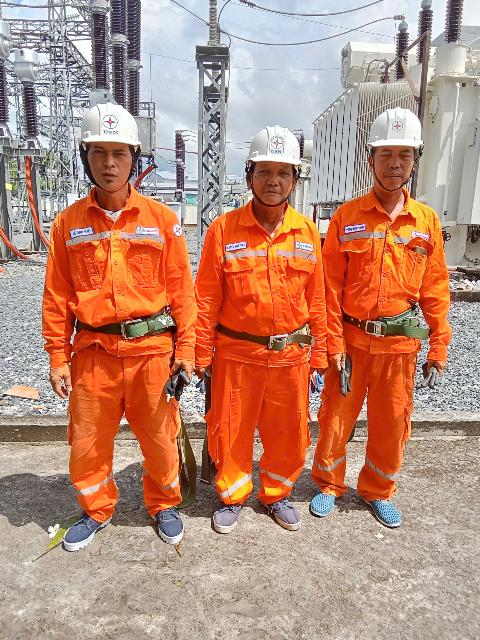gloves: (157, 364, 199, 401), (330, 348, 354, 401), (417, 359, 444, 390), (314, 368, 324, 392)
harness: (331, 292, 430, 350), (61, 302, 187, 345), (218, 312, 310, 363)
helmet: (70, 94, 161, 156), (362, 92, 427, 158), (233, 116, 308, 171)
shoes: (61, 498, 128, 551), (357, 486, 409, 539), (257, 493, 302, 537), (204, 492, 242, 537), (147, 497, 180, 546), (308, 470, 338, 523)
